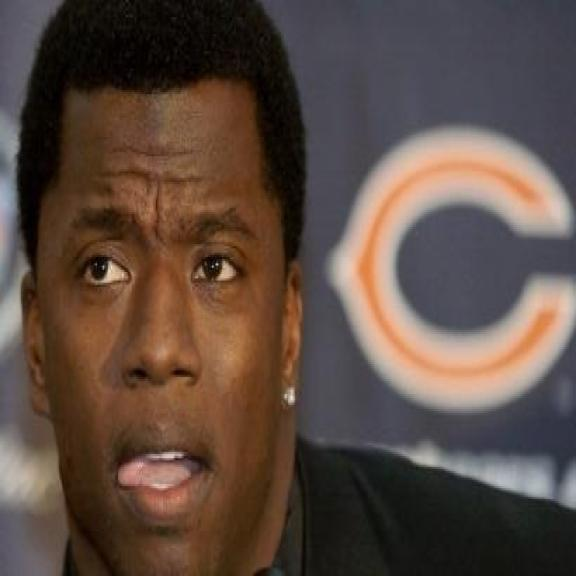face: (26, 91, 306, 567)
